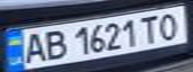1: (118, 16, 142, 47), (69, 24, 90, 55)
2: (103, 19, 127, 52)
6: (87, 20, 109, 54)
A: (18, 29, 51, 65)
B: (39, 27, 69, 61)
O: (154, 9, 187, 40)
T: (136, 12, 163, 43)
